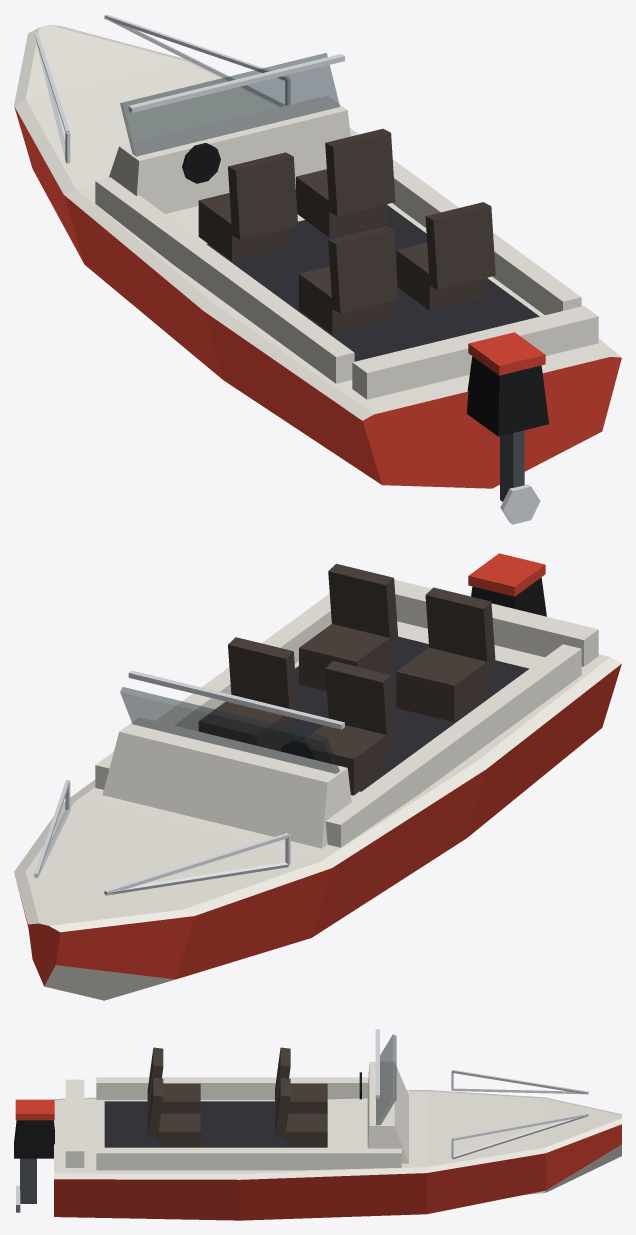
File: speedboat.glb
The picture shows the model from 3 angles, top to bottom: view 1: azimuth 30°, elevation 25°; view 2: azimuth 150°, elevation 25°; view 3: azimuth 270°, elevation 25°; orthographic projection. The views are drawn at different scales.
Parts seen in each view (by area): view 1: speedboat; view 2: speedboat; view 3: speedboat.
Boxes of the visible parts, box(x1,y1,x2,y2) form: speedboat: box(14, 14, 621, 524); speedboat: box(14, 553, 621, 1000); speedboat: box(14, 1029, 621, 1220).
Size of the model in its own units: 2.44 by 1.92 by 7.17.
